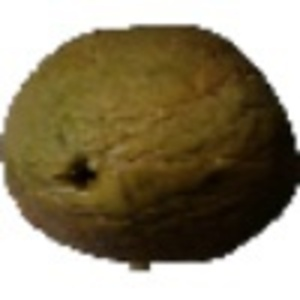mamão: (3, 19, 295, 267)
